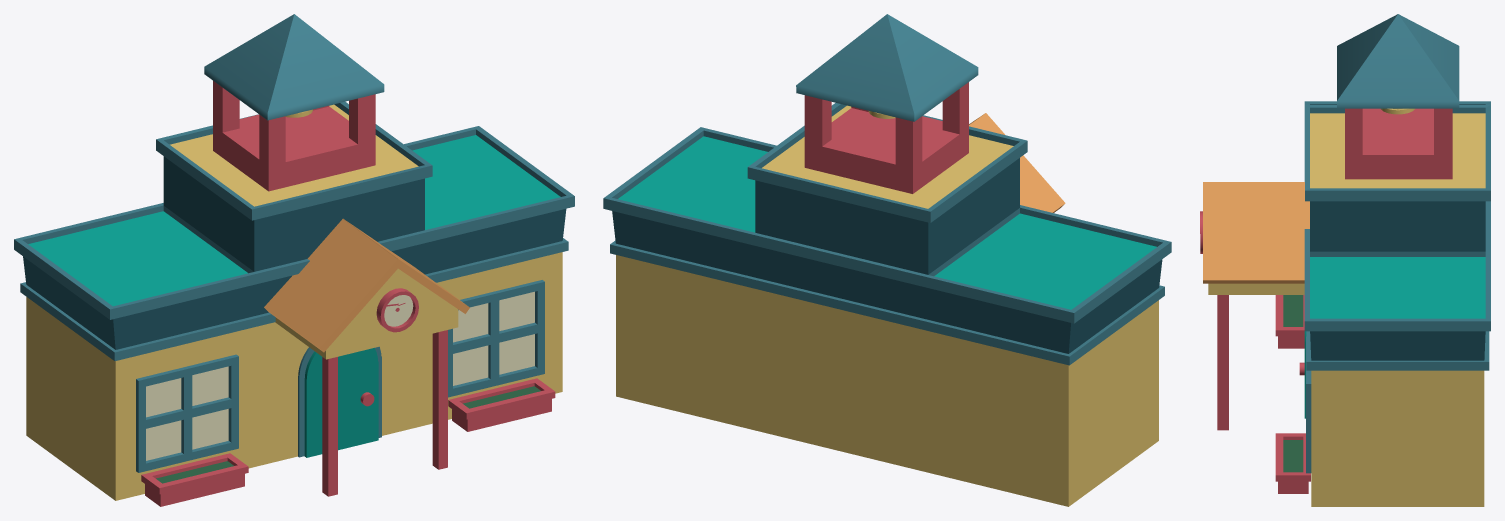
The model's file is SCHOOL2.fbx.
3 views of the same model, side by side, from view 1: azimuth 30°, elevation 25°; view 2: azimuth 150°, elevation 25°; view 3: azimuth 270°, elevation 25° (orthographic). The views are drawn at different scales.
Visible parts, largest first — view 1: school, pCube7, pCube5, pCylinder2, pCube2, pCube11, pCube14, pCube15, pCylinder4, pCylinder7, pCube6; view 2: school, pCube7, pCube5; view 3: school, pCube6, pCube7, pCube14, pCube11, pCube15, pCube2.
Part boxes in pixels (left/top/right/bottom): school: left=14, top=81, right=574, bottom=500; pCube7: left=204, top=14, right=384, bottom=120; pCube5: left=264, top=219, right=401, bottom=352; pCylinder2: left=304, top=348, right=378, bottom=457; pCube2: left=275, top=268, right=458, bottom=359; pCube11: left=322, top=330, right=447, bottom=496; pCube14: left=448, top=378, right=555, bottom=431; pCube15: left=141, top=453, right=248, bottom=506; pCylinder4: left=376, top=288, right=418, bottom=332; pCylinder7: left=298, top=346, right=381, bottom=457; pCube6: left=343, top=218, right=469, bottom=313; school: left=603, top=82, right=1171, bottom=506; pCube7: left=796, top=14, right=978, bottom=121; pCube5: left=969, top=113, right=1065, bottom=212; school: left=1304, top=101, right=1490, bottom=506; pCube6: left=1203, top=182, right=1309, bottom=283; pCube7: left=1337, top=14, right=1459, bottom=108; pCube14: left=1275, top=433, right=1310, bottom=493; pCube11: left=1217, top=295, right=1228, bottom=430; pCube15: left=1275, top=295, right=1304, bottom=348; pCube2: left=1208, top=283, right=1304, bottom=294.
Size of the model in its own units: 24.23 by 19.92 by 13.54.
